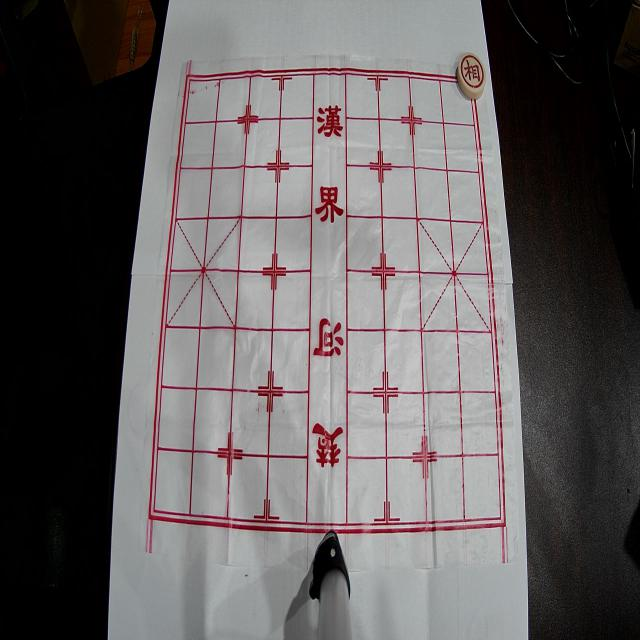red-elephant: (457, 53, 486, 99)
